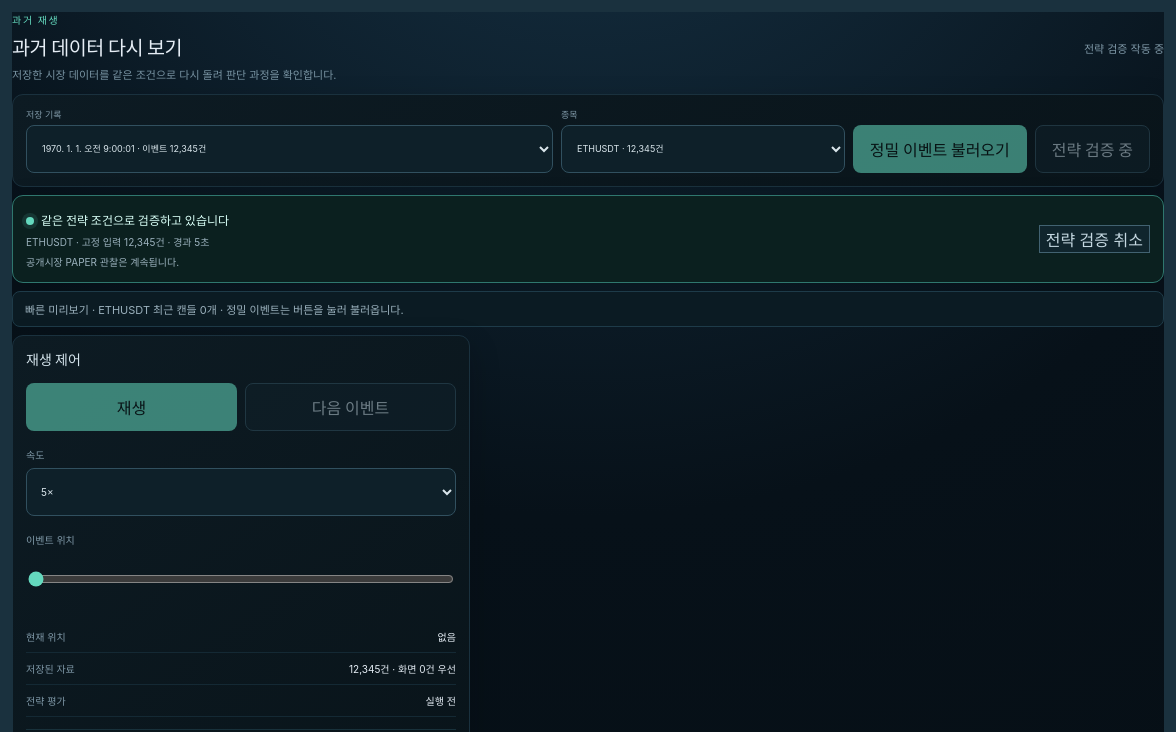
Test: restores an active strategy verification and exposes a real cancel control
Expected: the text "같은 전략 조건으로 검증하고 있습니다" is shown, [41,212,229,228]
Expected: the text "ETHUSDT · 고정 입력 12,345건 · 경과 5초" is shown, [26,234,229,248]
Click the button "전략 검증 취소": (1094, 238) [1039,224,1150,252]
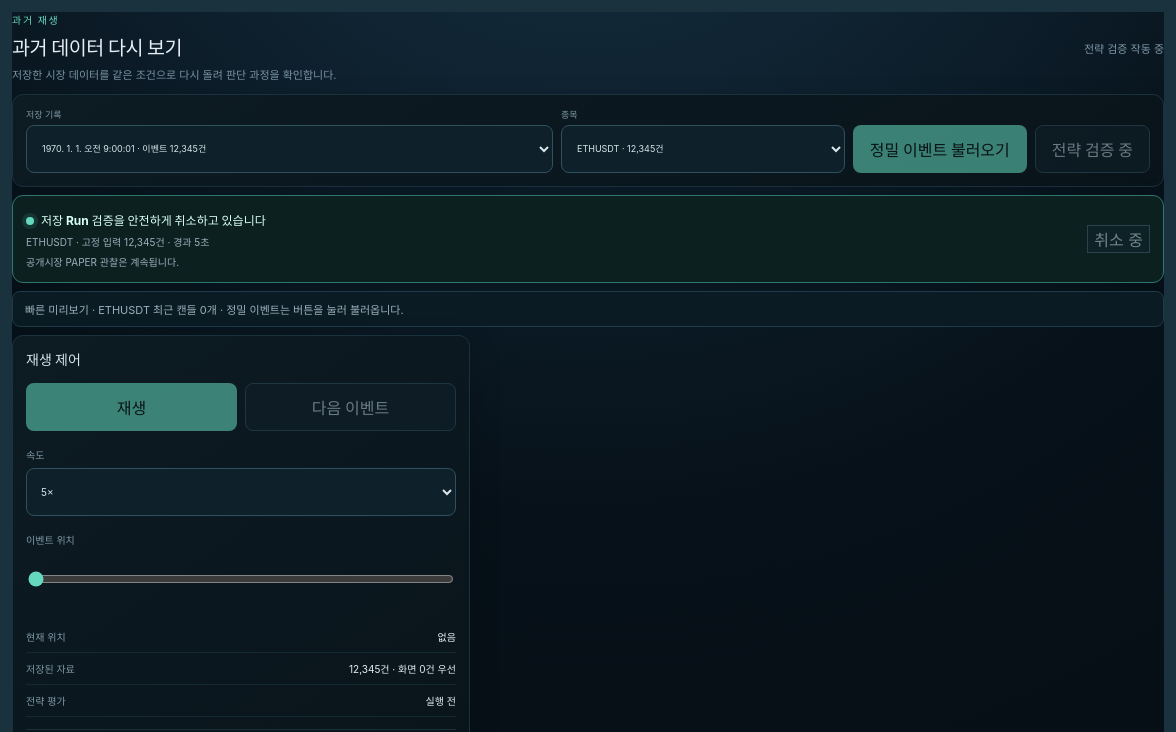
Expected: the button "취소 중" is disabled, [1087,224,1150,252]
